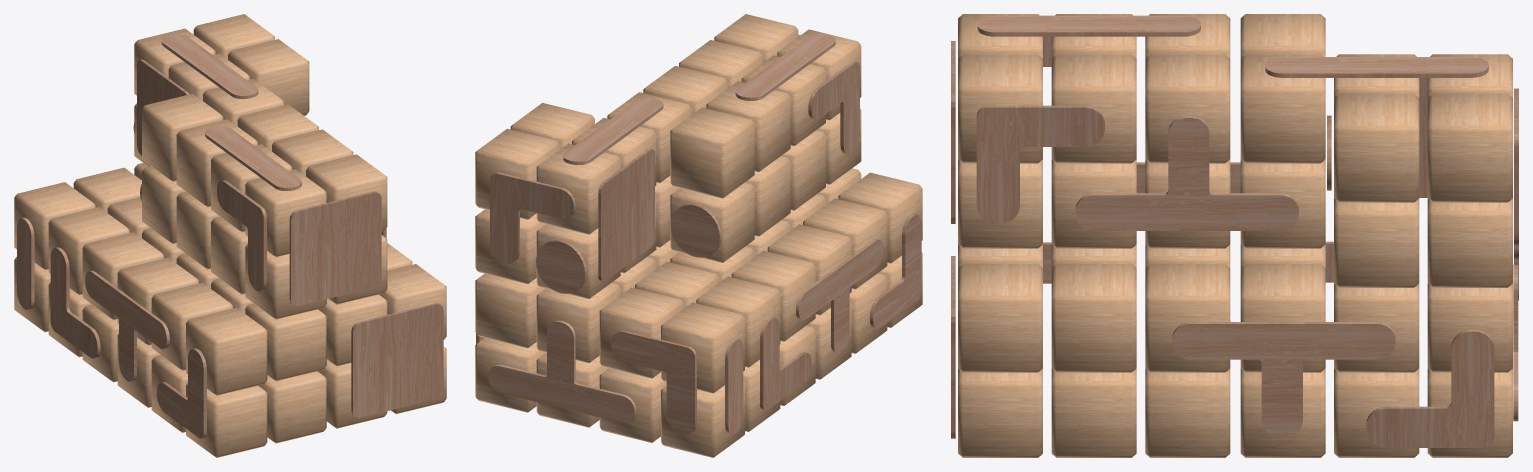
File: level_90.fbx
3 views of the same model, side by side, from view 1: azimuth 30°, elevation 25°; view 2: azimuth 150°, elevation 25°; view 3: azimuth 270°, elevation 25° (orthographic). The views are drawn at different scales.
Parts seen in each view (by area): view 1: obj_obs_square.003, obj_obs_square.002, Cube.036, Cube.034, Cube.035, Cube.033, Cube.058, Cube.052, obj_obs_T.001, Cube.032, Cube.011, Cube.066 (+38 smaller); view 2: Cube.058, obj_obs_T.002, obj_obs_square.001, obj_obs_L.004, obj_obs_L.005, Cube.009, Cube.002, Cube.005, Cube.054, obj_obs_T.001, Cube.050, Cube.014 (+44 smaller); view 3: obj_obs_T.004, obj_obs_T.003, Cube.050, Cube.052, Cube.040, Cube.046, obj_obs_L.007, obj_obs_L.008, Cube.060, Cube.068, Cube.037, Cube.039 (+34 smaller).
Boxes of the visible parts, x1,y1,x2,y2 form: obj_obs_square.003: [351, 303, 443, 417]; obj_obs_square.002: [289, 191, 381, 306]; Cube.036: [186, 307, 267, 395]; Cube.034: [245, 303, 326, 380]; Cube.035: [186, 383, 267, 457]; Cube.033: [258, 371, 326, 443]; Cube.058: [142, 93, 223, 181]; Cube.052: [228, 39, 309, 115]; obj_obs_T.001: [85, 270, 169, 381]; Cube.032: [151, 282, 232, 370]; Cube.011: [48, 207, 129, 294]; Cube.066: [245, 169, 326, 256]; Cube.058: [670, 107, 754, 198]; obj_obs_T.002: [488, 320, 636, 423]; obj_obs_square.001: [598, 148, 654, 281]; obj_obs_L.004: [611, 330, 696, 434]; obj_obs_L.005: [490, 172, 575, 263]; Cube.009: [661, 302, 744, 393]; Cube.002: [475, 273, 545, 348]; Cube.005: [599, 287, 683, 378]; Cube.054: [536, 143, 620, 234]; obj_obs_T.001: [796, 239, 883, 353]; Cube.050: [475, 128, 559, 219]; Cube.014: [536, 282, 620, 362]; obj_obs_T.004: [1172, 322, 1395, 436]; obj_obs_T.003: [1075, 116, 1298, 230]; Cube.050: [1427, 93, 1512, 202]; Cube.052: [1334, 93, 1419, 202]; Cube.040: [1051, 264, 1136, 372]; Cube.046: [958, 264, 1042, 372]; obj_obs_L.007: [976, 105, 1104, 223]; obj_obs_L.008: [1366, 329, 1494, 447]; Cube.060: [1240, 54, 1325, 163]; Cube.068: [1145, 54, 1230, 163]; Cube.037: [1145, 368, 1230, 457]; Cube.039: [1051, 368, 1136, 457].
Size of the model in its own units: 8.99 by 8.76 by 13.34.
